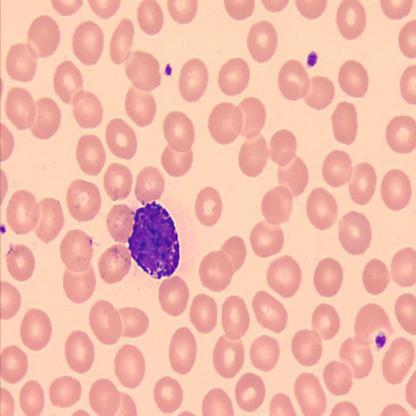Basophil: (124, 198, 186, 283)
